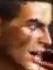kevin: (2, 0, 51, 69)
